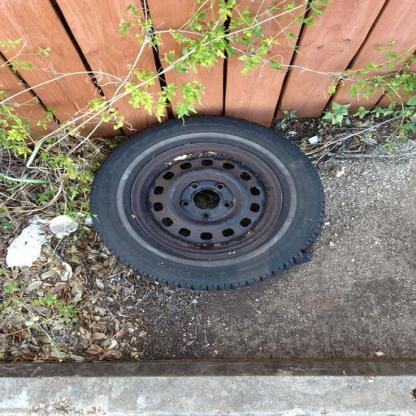Tire: (87, 114, 329, 293)
